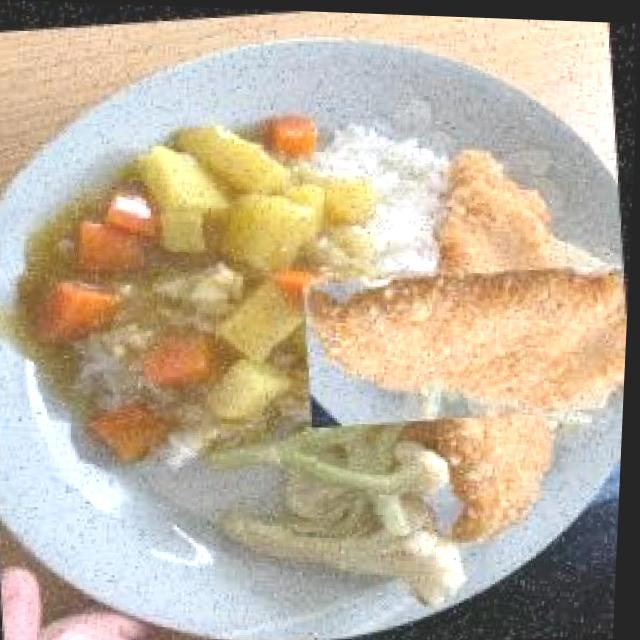curry: (22, 96, 405, 475)
fried_chicken: (355, 186, 634, 492)
rice: (317, 118, 477, 335)
